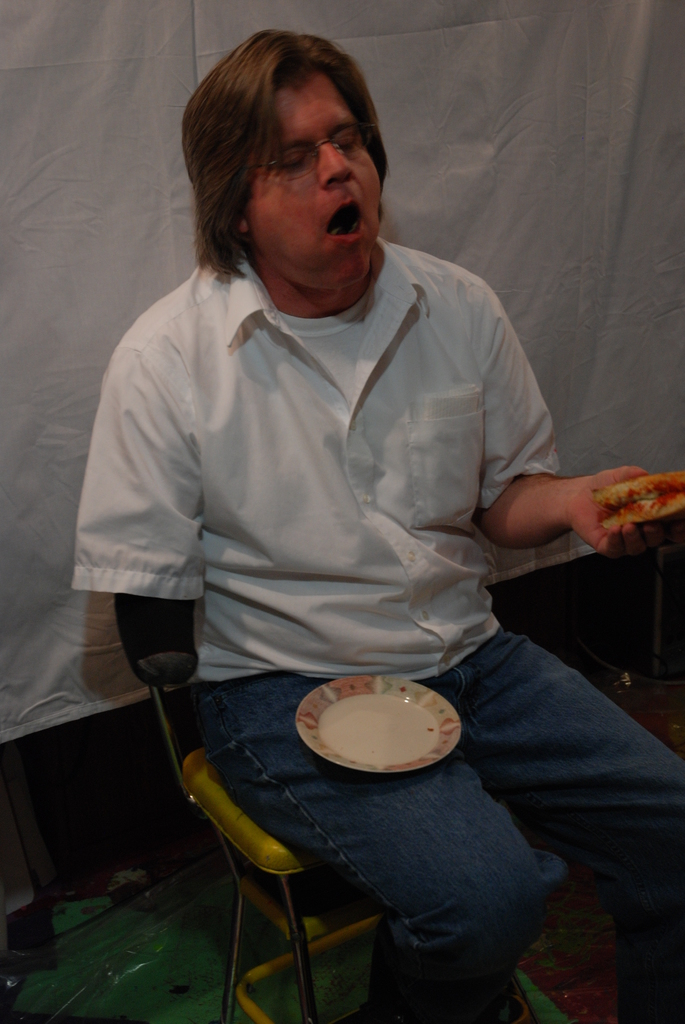plate: (299, 672, 459, 766)
